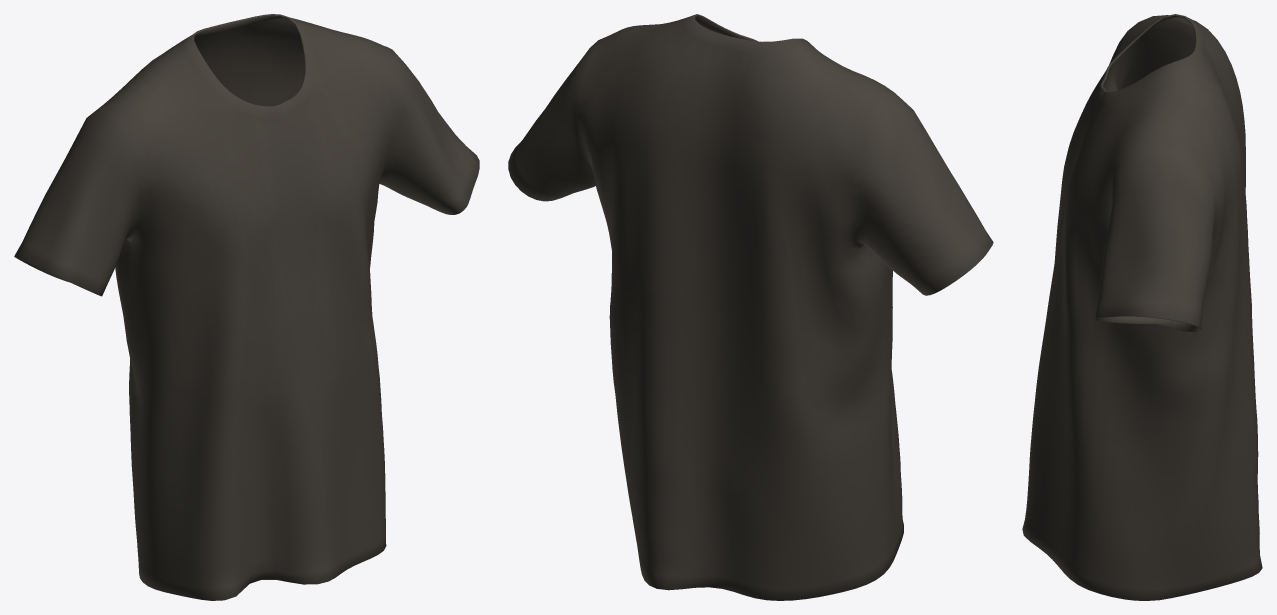
File: tshirt.glb
3 renders of one model, left to right at view 1: azimuth 30°, elevation 25°; view 2: azimuth 150°, elevation 25°; view 3: azimuth 270°, elevation 25°, orthographic. The views are drawn at different scales.
Parts seen in each view (by area): view 1: Object_2; view 2: Object_2; view 3: Object_2.
Part boxes in pixels (x1,y1,x2,y2): Object_2: [14, 14, 479, 600]; Object_2: [508, 14, 993, 600]; Object_2: [1022, 14, 1262, 600].
Size of the model in its own units: 0.7146 by 0.7914 by 0.3352.
Materials: 1 (1 with a texture image).
